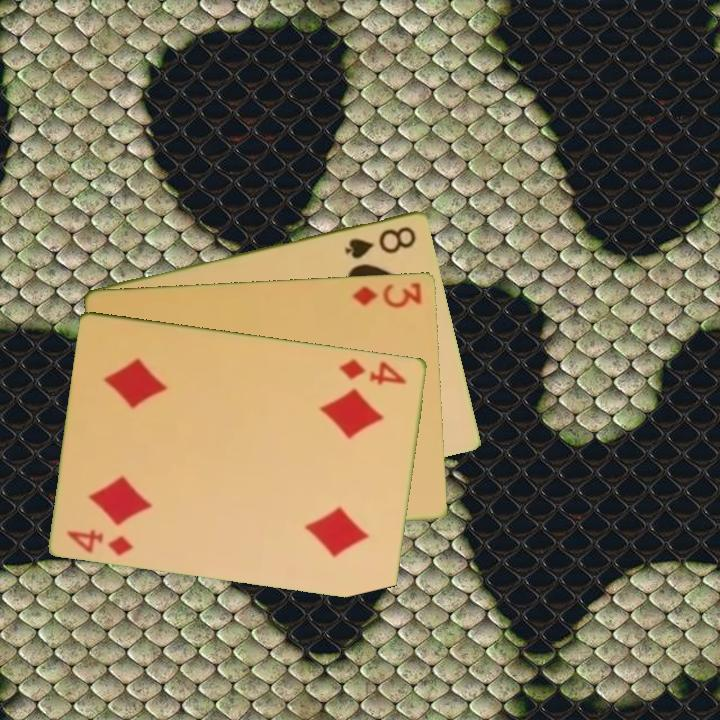3d: (349, 278, 425, 310)
4d: (64, 525, 137, 559), (337, 355, 411, 388)
8s: (341, 222, 419, 262)
